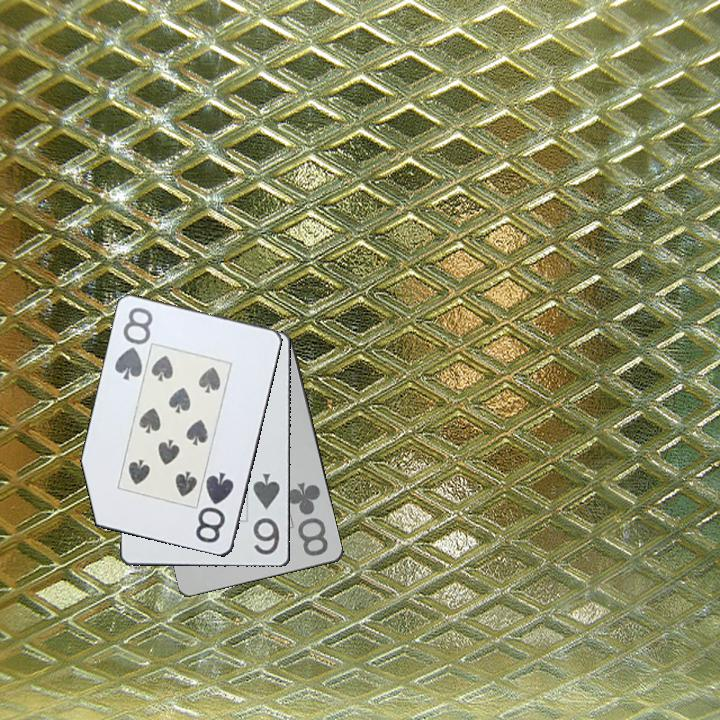6s: (250, 470, 283, 558)
8c: (286, 479, 333, 559)
8s: (111, 304, 156, 384), (193, 469, 237, 546)
